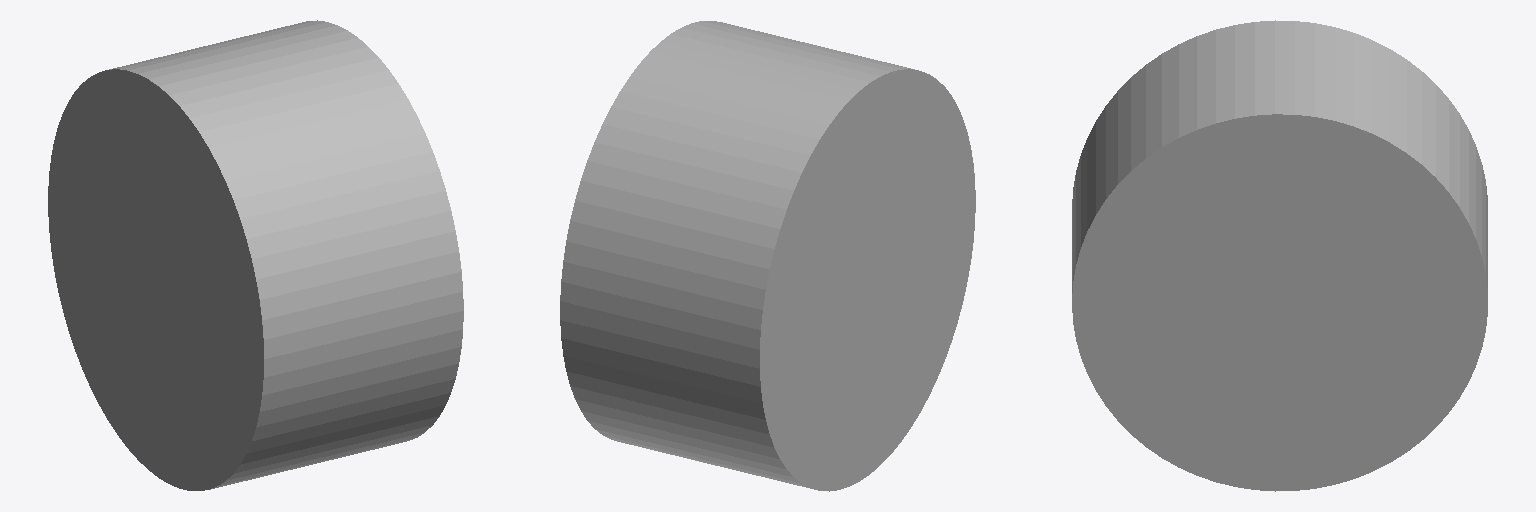
The robot description file, URDF, robot "root":
<?xml version='1.0' encoding='utf-8'?>
<robot name="root">
  <link name="link_001">
    <visual>
      <origin xyz="0 0 0" rpy="0 0 0" />
      <geometry>
        <mesh filename="0dc29d53d706875a8a626d40a2b13bd56fd729ac4e1e3fe3940c01c81af11cea_scale_200.stl" scale="1.0000E+00 1.0000E+00 1.0000E+00" />
      </geometry>
      <material name="">
        <color rgba="7.50E-01 7.50E-01 7.50E-01 1" />
      </material>
    </visual>
    <collision>
      <origin xyz="0 0 0" rpy="0 0 0" />
      <geometry>
        <mesh filename="0dc29d53d706875a8a626d40a2b13bd56fd729ac4e1e3fe3940c01c81af11cea_scale_200.stl" scale="1.0000E+00 1.0000E+00 1.0000E+00" />
      </geometry>
    </collision>
  </link>
</robot>

--- What the picture shows (computed from the rendered views, not written in the file) ---
The picture shows the robot from 3 angles, left to right: view 1: azimuth 30°, elevation 25°; view 2: azimuth 150°, elevation 25°; view 3: azimuth 270°, elevation 25°; orthographic projection.
Model root with 1 links and 0 joints (none), rooted at link_001, posed all joints at 0.
Visible links, largest first — view 1: link_001; view 2: link_001; view 3: link_001.
Boxes of the visible links, x1,y1,x2,y2 form: link_001: (48,20,463,490); link_001: (560,21,975,491); link_001: (1072,20,1487,491).
Bounding box of the posed robot: 0.064 × 0.12 × 0.12 m (x, y, z).
Meshes: 1 distinct files referenced, 1 mesh visuals loaded (1 binary STL).
